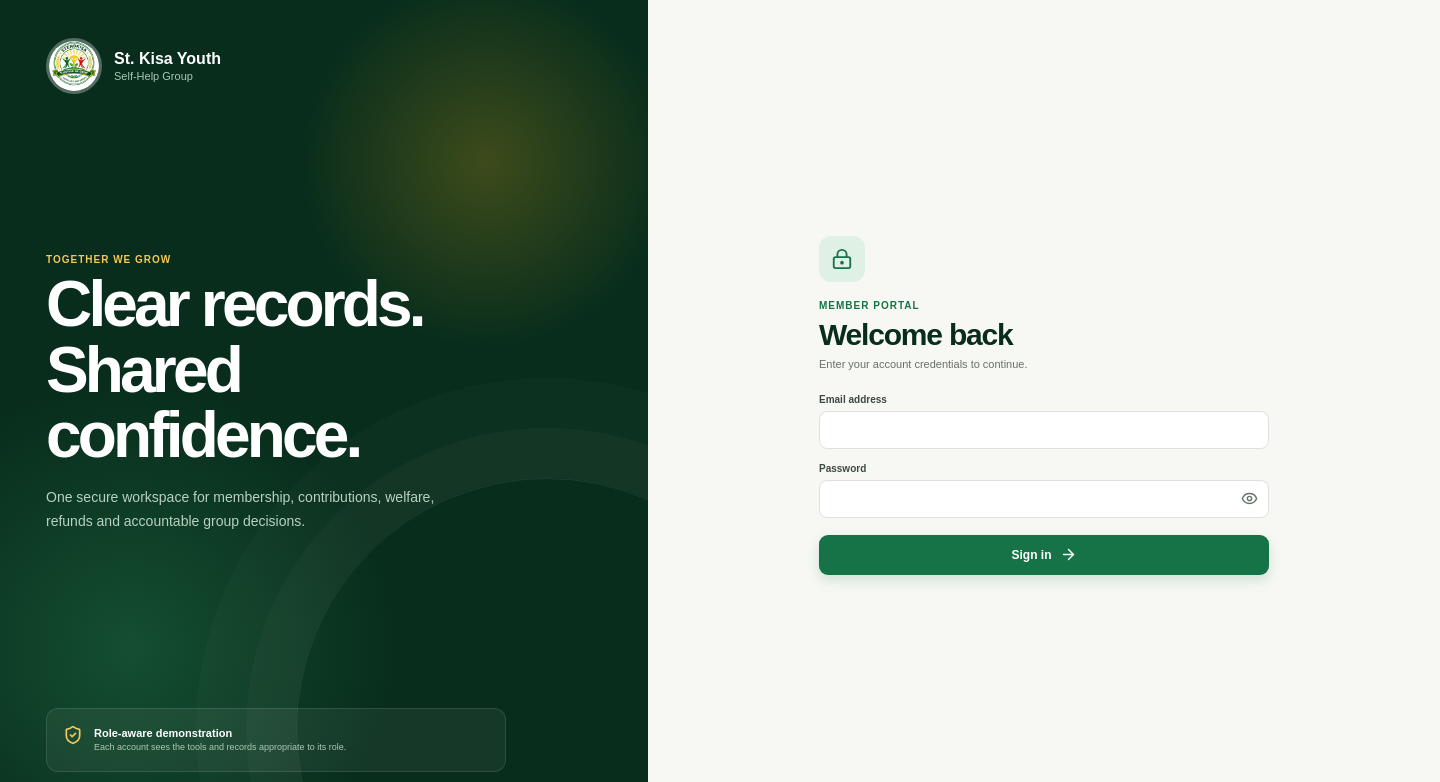
Test: St. Kisa member portal › renders the /accounting workspace
Type "admin@stkisa.org" into the field labelled "Email address" at (1044, 430), box 819,410 -> 1269,448
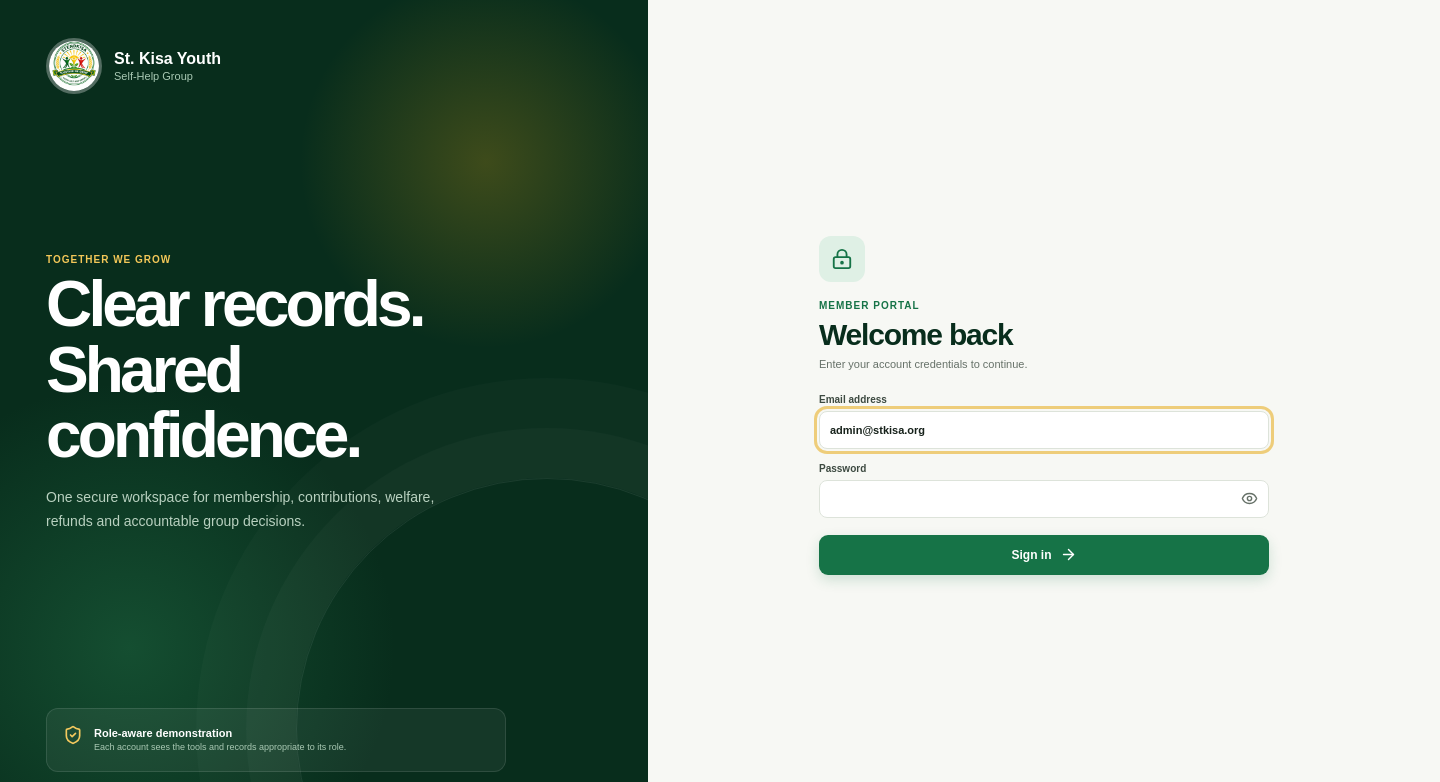
Type "Demo@2026" into the password field labelled "Password" at (1044, 498), box 819,480 -> 1269,518
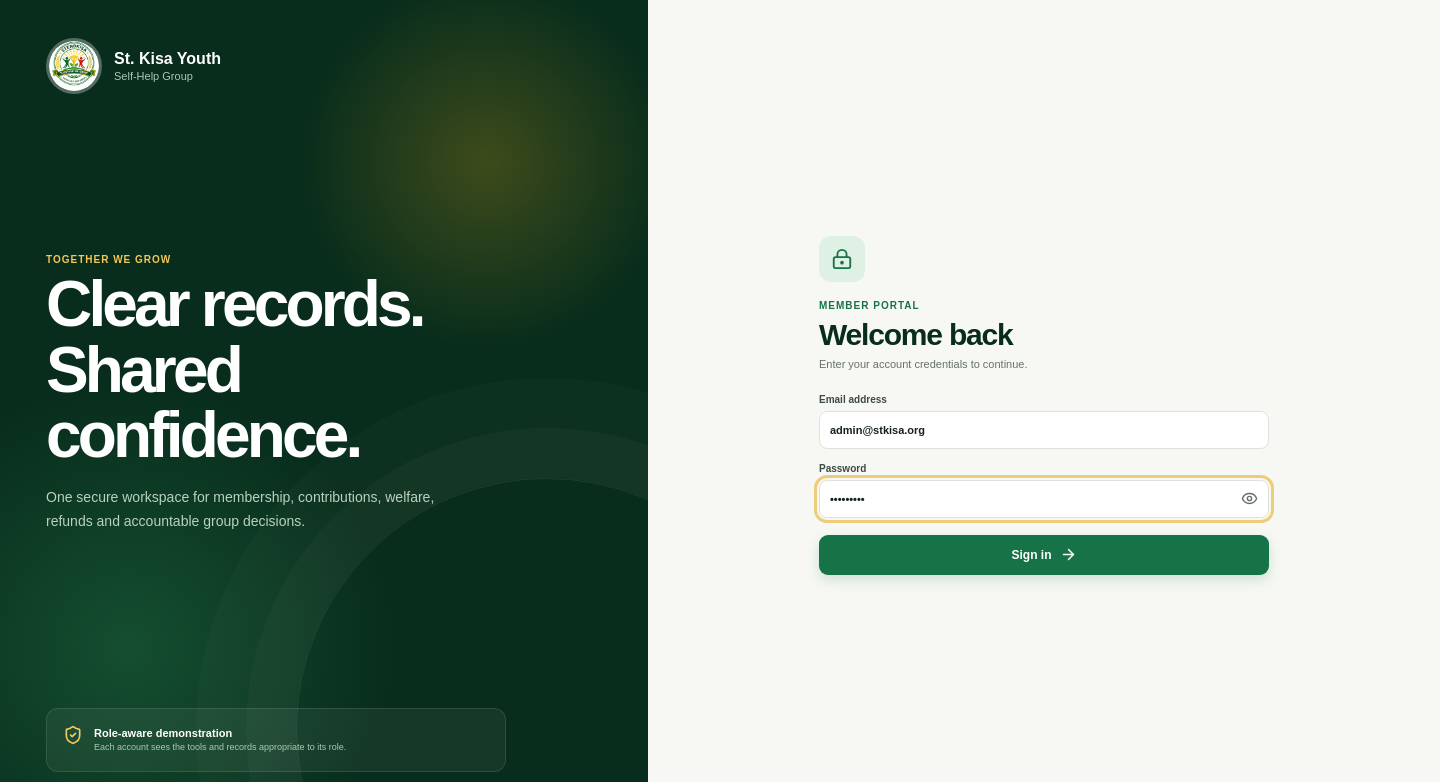
Click the button "Sign in" at (1044, 554), box 819,534 -> 1269,574
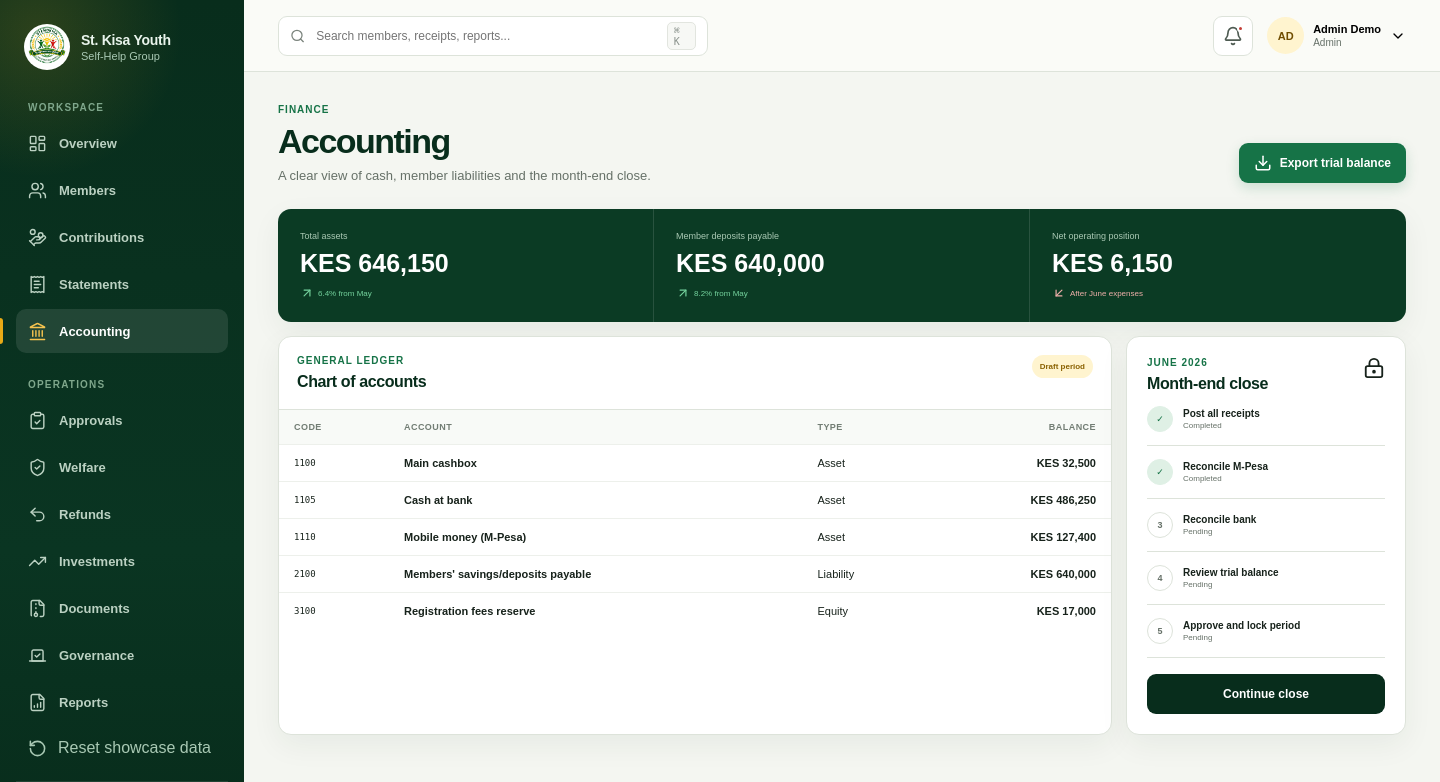
Check: the heading "Accounting" is shown, box 278,122 -> 450,160
